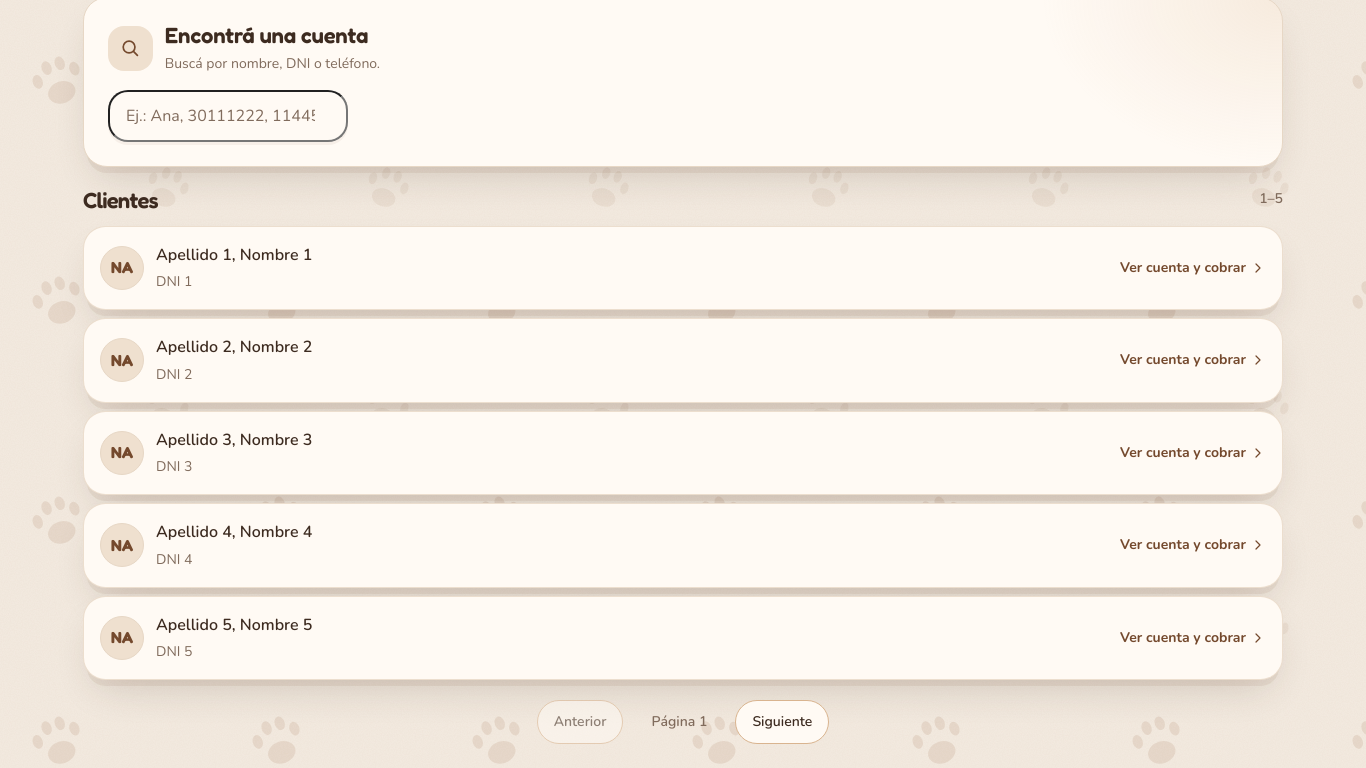
Test: rutas de cobros › reinicia la página cuando cambia la búsqueda
(page scrolled)
Expected: the link "NA Apellido 1, Nombre 1 DNI 1 Ver cuenta y cobrar" is shown, [83,226,1283,310]
Step 1. Click the button "Siguiente" → [782, 722], box [735,700,829,744]
(page scrolled)
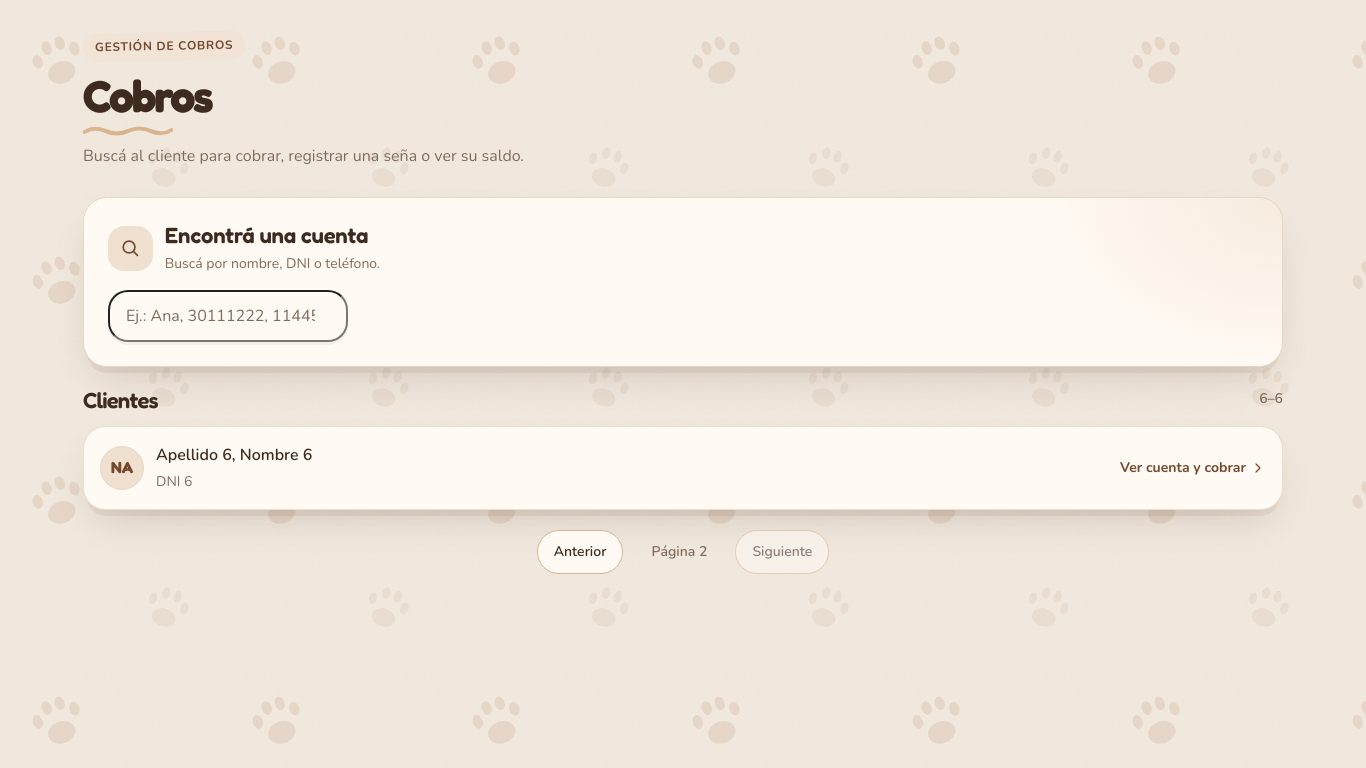
Expected: the link "NA Apellido 6, Nombre 6 DNI 6 Ver cuenta y cobrar" is shown, [83,426,1283,510]
Step 2. Type "Nombre 30" into the search field named "Buscar cliente" → [228, 316], box [108,290,348,342]
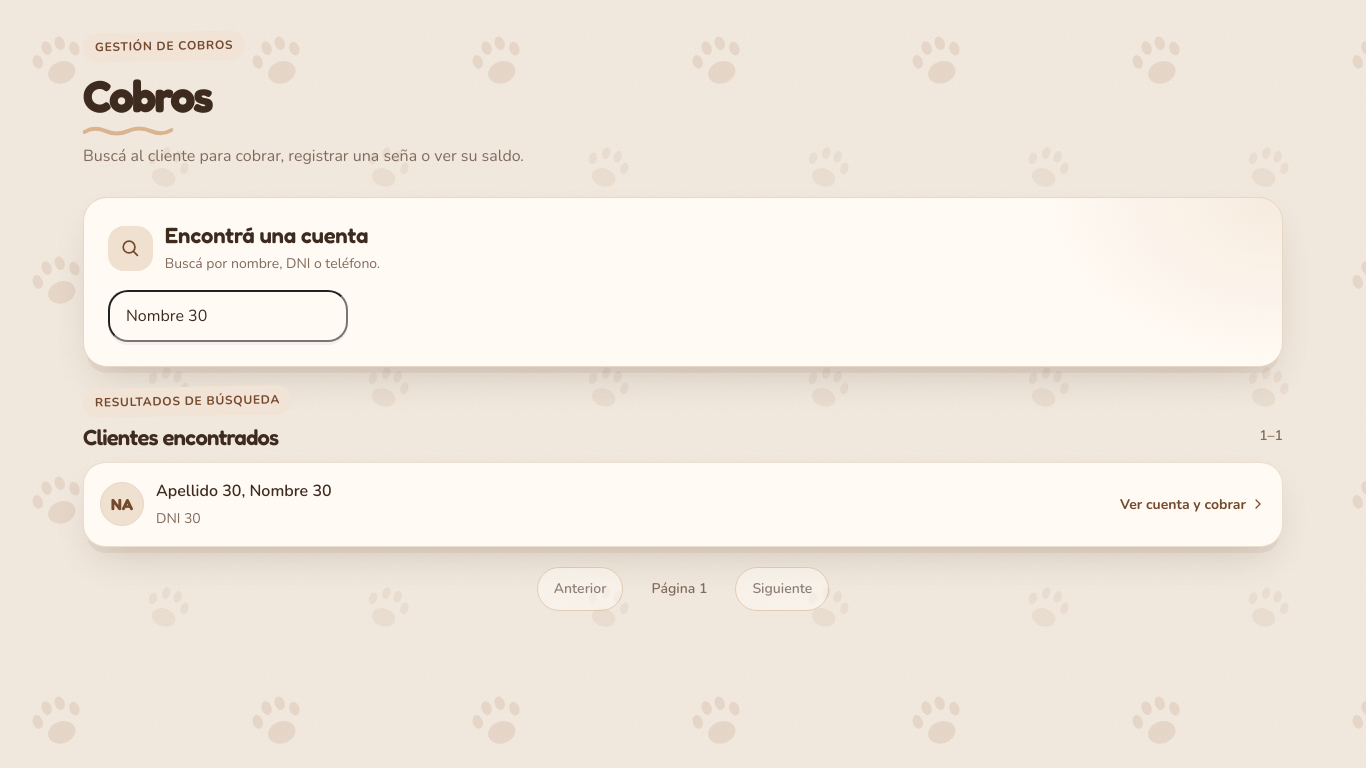
Expected: the link "NA Apellido 30, Nombre 30 DNI 30 Ver cuenta y cobrar" is shown, [83,462,1283,547]
Expected: the text "Página 1" is shown, [651,579,707,598]
